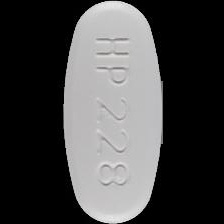23155-228: (0, 0, 224, 224)
